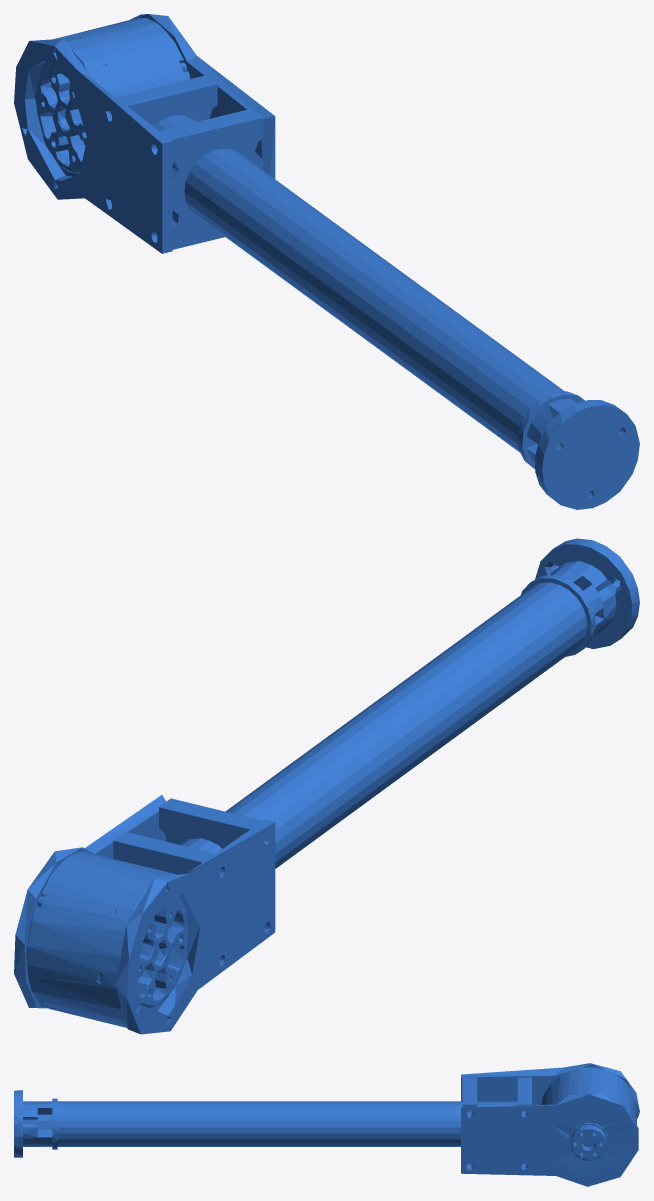
The model's file is tilt_pitch_l.dae.
3 views of the same model, one above another, from view 1: azimuth 30°, elevation 25°; view 2: azimuth 150°, elevation 25°; view 3: azimuth 270°, elevation 25° (orthographic). The views are drawn at different scales.
Parts seen in each view (by area): view 1: arm_l_pitch; view 2: arm_l_pitch; view 3: arm_l_pitch.
Boxes of the visible parts, x1,y1,x2,y2 form: arm_l_pitch: (14, 14, 639, 509); arm_l_pitch: (14, 538, 639, 1034); arm_l_pitch: (14, 1063, 639, 1186).
Bounding box in the file's own units: 0.048 × 0.3431 × 0.0564.
